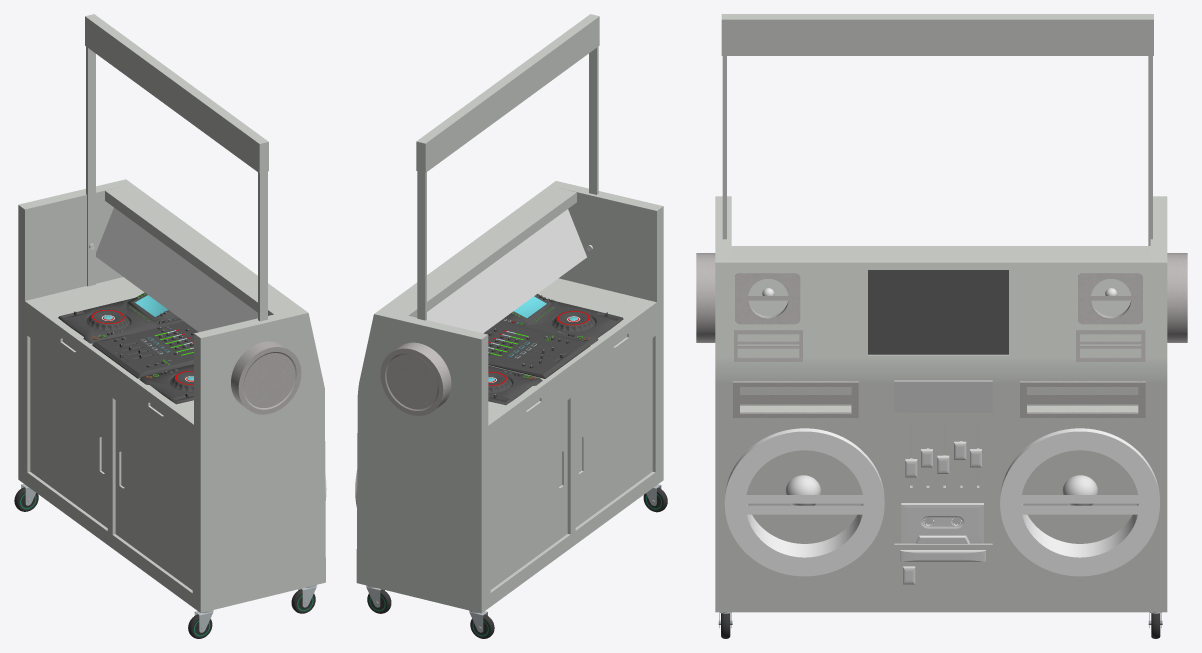
The model's file is steroe.gltf.
3 renders of one model, left to right at view 1: azimuth 30°, elevation 25°; view 2: azimuth 150°, elevation 25°; view 3: azimuth 270°, elevation 25°, orthographic. The views are drawn at different scales.
Parts seen in each view (by area): view 1: body, back-plate, top-banner, speaker-left, bars, Box058, Cylinder226, wheels, Cylinder121; view 2: body, back-plate, top-banner, speaker-right, Box058, Cylinder121, bars, wheels, Cylinder226; view 3: body, top-banner, big-speaker-grill-right, big-speaker-grill-left, meter-front, casette, name-plate, grill-right-b, grill-left-b, small-speaker-grill, small-speker-grill, speaker-right (+7 smaller).
Boxes of the visible parts, bbox=[...] form: body: bbox=[18, 179, 325, 612]; back-plate: bbox=[96, 207, 257, 331]; top-banner: bbox=[85, 14, 268, 173]; speaker-left: bbox=[231, 341, 301, 414]; bars: bbox=[86, 46, 267, 321]; Box058: bbox=[92, 321, 198, 378]; Cylinder226: bbox=[58, 292, 183, 343]; wheels: bbox=[14, 484, 316, 638]; Cylinder121: bbox=[139, 364, 193, 404]; body: bbox=[356, 181, 663, 613]; back-plate: bbox=[427, 209, 586, 333]; top-banner: bbox=[416, 14, 599, 172]; speaker-right: bbox=[380, 342, 451, 415]; Box058: bbox=[483, 322, 590, 378]; Cylinder121: bbox=[499, 294, 623, 344]; bars: bbox=[417, 46, 598, 320]; wheels: bbox=[366, 484, 667, 638]; Cylinder226: bbox=[488, 365, 542, 405]; body: bbox=[715, 196, 1167, 612]; top-banner: bbox=[721, 14, 1153, 55]; big-speaker-grill-right: bbox=[1000, 428, 1159, 576]; big-speaker-grill-left: bbox=[724, 428, 884, 576]; meter-front: bbox=[868, 270, 1008, 354]; casette: bbox=[894, 503, 992, 544]; name-plate: bbox=[894, 380, 992, 412]; grill-right-b: bbox=[1020, 381, 1145, 417]; grill-left-b: bbox=[733, 381, 858, 417]; small-speaker-grill: bbox=[735, 273, 800, 324]; small-speker-grill: bbox=[1078, 273, 1142, 324]; speaker-right: bbox=[1167, 253, 1187, 342].
Bounding box in the file's own units: 0.6794 × 2.28 × 1.7.
Materials: 15 (4 with a texture image).
